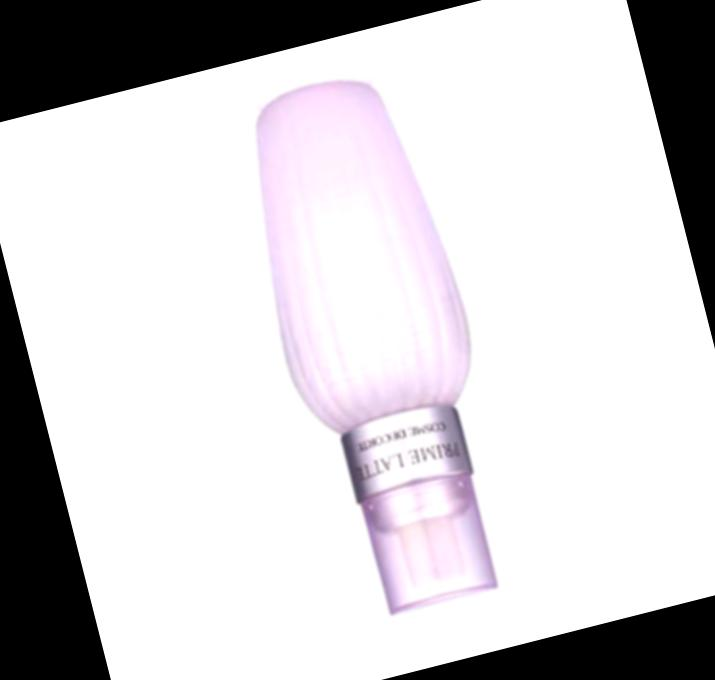cosmetic: (226, 60, 521, 630)
